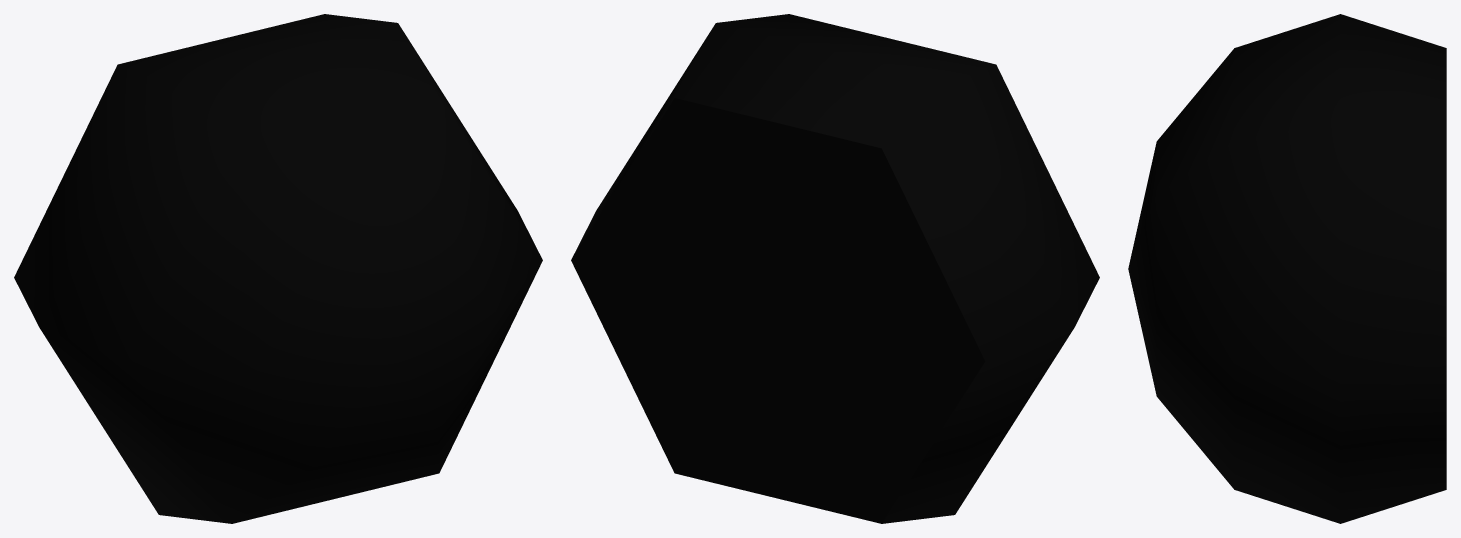
The model's file is SM_Door_Handle.fbx.
3 renders of one model, left to right at view 1: azimuth 30°, elevation 25°; view 2: azimuth 150°, elevation 25°; view 3: azimuth 270°, elevation 25°, orthographic. The views are drawn at different scales.
Visible parts, largest first — view 1: SM_Door_Handle; view 2: SM_Door_Handle; view 3: SM_Door_Handle.
Part boxes in pixels (left/top/right/bottom): SM_Door_Handle: left=14, top=14, right=542, bottom=523; SM_Door_Handle: left=571, top=14, right=1099, bottom=523; SM_Door_Handle: left=1128, top=14, right=1446, bottom=523.
Bounding box in the file's own units: 12.08 × 10.47 × 7.52.
